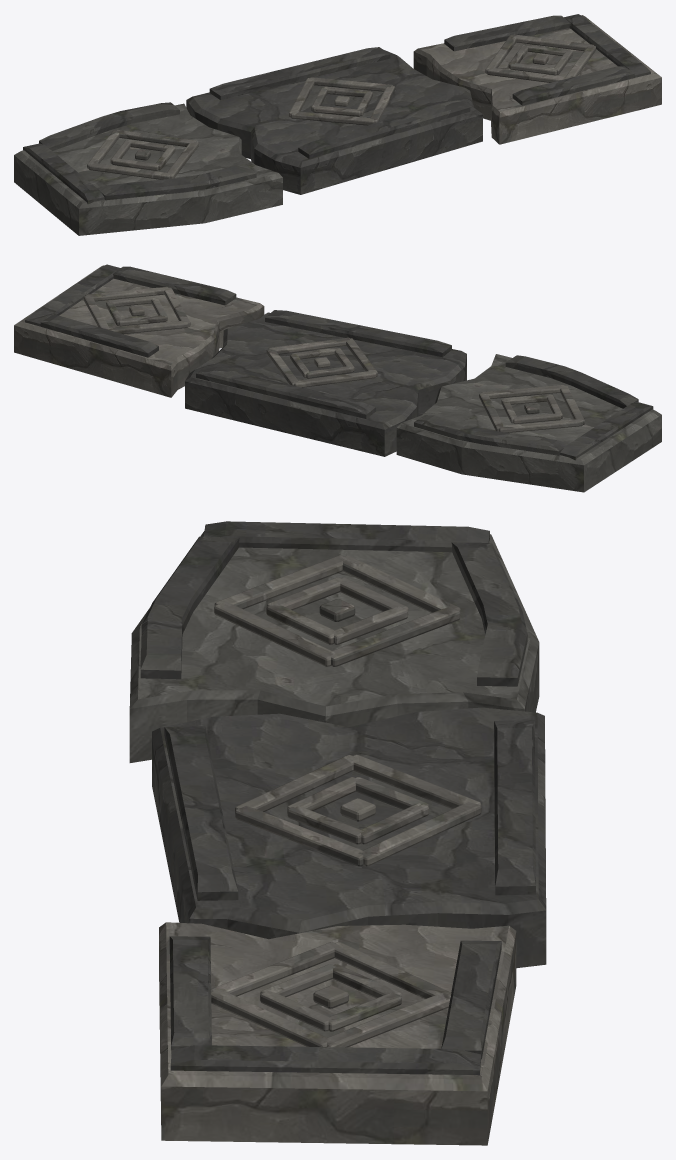
The model's file is junk_coffin_lid.glb.
The picture shows the model from 3 angles, top to bottom: view 1: azimuth 30°, elevation 25°; view 2: azimuth 150°, elevation 25°; view 3: azimuth 270°, elevation 25°; orthographic projection. The views are drawn at different scales.
Parts seen in each view (by area): view 1: model; view 2: model; view 3: model.
Part boxes in pixels (x1,y1,x2,y2): model: (14,14,661,235); model: (14,264,661,492); model: (129,521,546,1145).
Bounding box in the file's own units: 1.96 × 0.122 × 0.6123.
3 materials, 3 textured.
